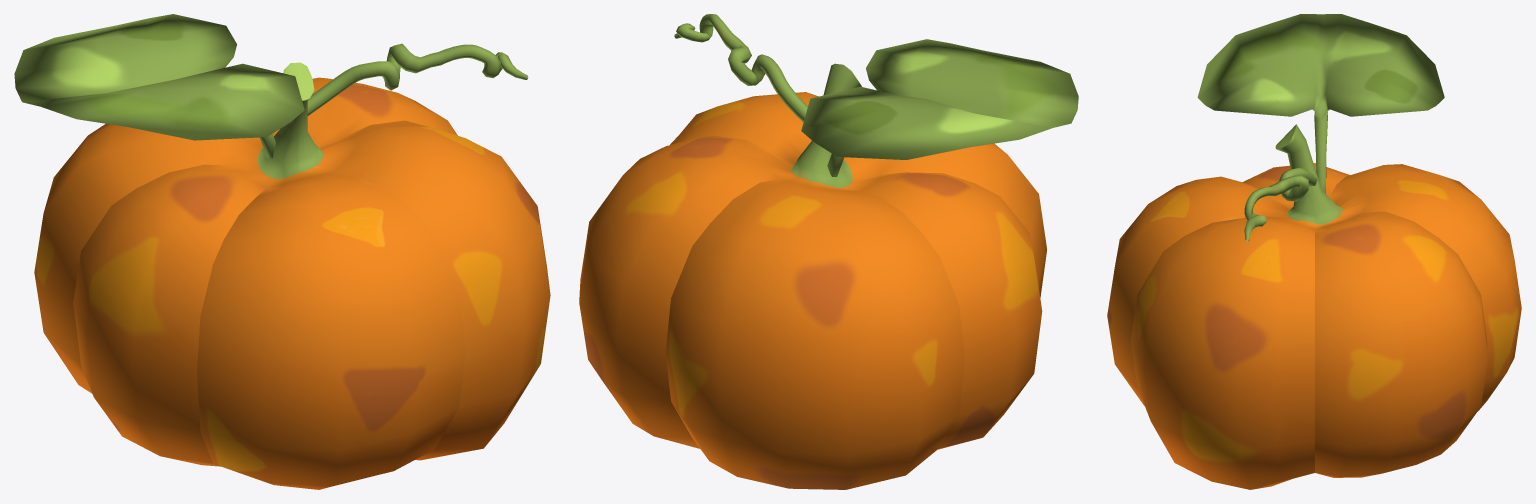
The model's file is Pumpkin.fbx.
3 views of the same model, side by side, from view 1: azimuth 30°, elevation 25°; view 2: azimuth 150°, elevation 25°; view 3: azimuth 270°, elevation 25° (orthographic). The views are drawn at different scales.
Parts seen in each view (by area): view 1: Sphere, Cube.002, BézierCurve; view 2: Sphere, Cube.002, BézierCurve; view 3: Sphere, Cube.002, BézierCurve.
Part boxes in pixels (box(x1,y1,x2,y2)): Sphere: box(34, 62, 550, 489); Cube.002: box(14, 14, 304, 158); BézierCurve: box(307, 43, 528, 115); Sphere: box(579, 63, 1046, 489); Cube.002: box(801, 39, 1078, 176); BézierCurve: box(674, 14, 807, 122); Sphere: box(1107, 124, 1521, 489); Cube.002: box(1197, 14, 1444, 193); BézierCurve: box(1244, 168, 1317, 241).
Size of the model in its own units: 269 by 250 by 217.
